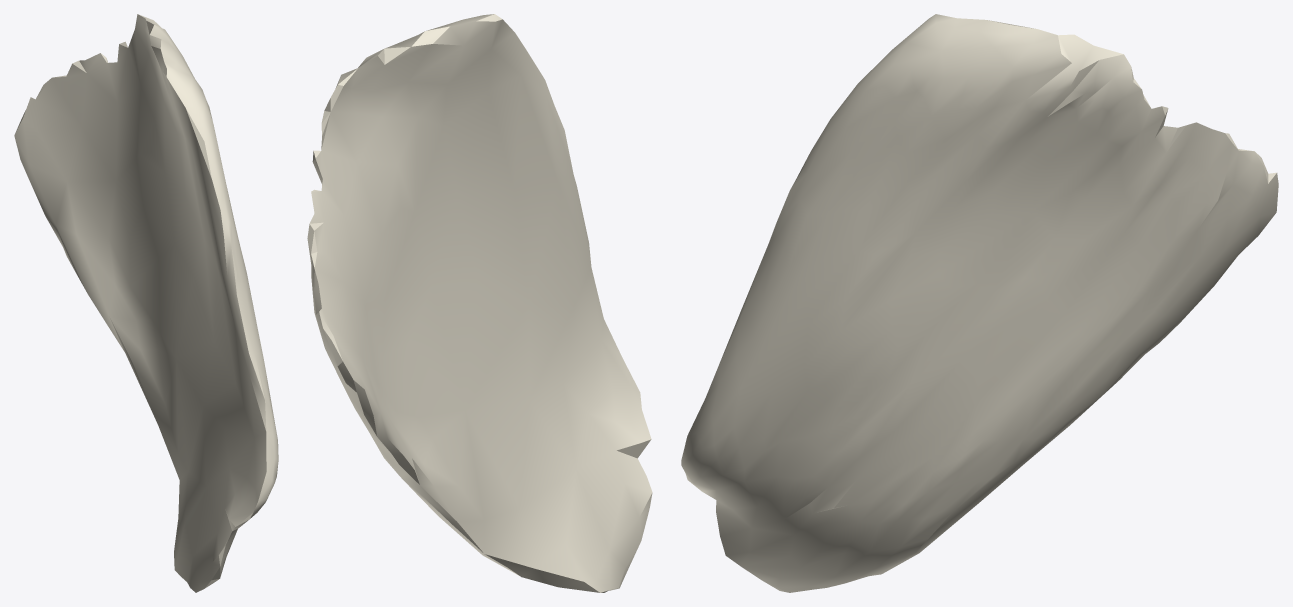
File: fma321704-r_mm1493m.glb
The picture shows the model from 3 angles, left to right: view 1: azimuth 30°, elevation 25°; view 2: azimuth 150°, elevation 25°; view 3: azimuth 270°, elevation 25°; orthographic projection. The views are drawn at different scales.
Visible parts, largest first — view 1: FMA321704-R_MM1493M; view 2: FMA321704-R_MM1493M; view 3: FMA321704-R_MM1493M.
Part boxes in pixels (box(x1,y1,x2,y2)): FMA321704-R_MM1493M: box(14, 14, 278, 592); FMA321704-R_MM1493M: box(307, 14, 652, 592); FMA321704-R_MM1493M: box(681, 14, 1278, 592).
Bounding box in the file's own units: 0.00183 × 0.00887 × 0.00799.
